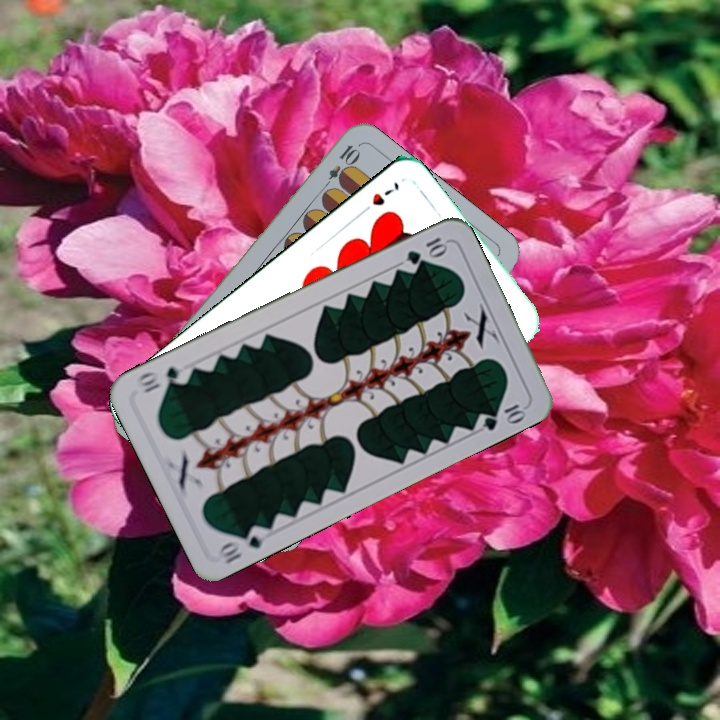E10: (318, 140, 362, 194)
G10: (215, 521, 271, 566), (402, 233, 450, 267)
H7: (355, 178, 402, 219)
